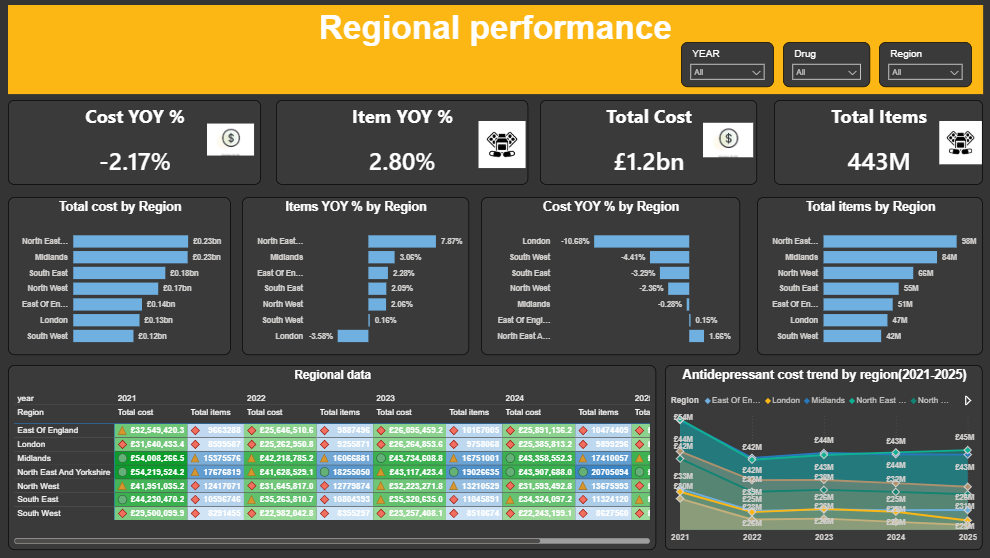

This screenshot's page, from the dashboard's own definition file:
{"tool":"powerbi","page":{"name":"Page 2","canvas":[1600,900],"ordinal":1},"visuals":[{"type":"barChart","fields":{"Y":["antidepressants_2021_2025_final1.Total  cost"],"Category":["antidepressants_2021_2025_final1.REGION_NAME"]},"box":[28.7,320.3,355.4,251.8],"z":0},{"type":"clusteredBarChart","fields":{"Y":["antidepressants_2021_2025_final1.Total  items"],"Category":["antidepressants_2021_2025_final1.REGION_NAME"]},"box":[1222.3,320.3,360.2,251.8],"z":1000},{"type":"pivotTable","title":"Regional data","fields":{"Rows":["antidepressants_2021_2025_final1.REGION_NAME"],"Columns":["Datetable.year"],"Values":["antidepressants_2021_2025_final1.Total  cost","antidepressants_2021_2025_final1.Total  items"]},"box":[28.7,588,1032.7,294.8],"z":2000},{"type":"lineChart","title":"Antidepressant cost trend by region(2021-2025)","fields":{"Category":["Datetable.year"],"Y":["antidepressants_2021_2025_final1.Total  cost"],"Series":["antidepressants_2021_2025_final1.REGION_NAME"]},"box":[1075.5,588.5,506.4,295],"z":3000},{"type":"clusteredBarChart","fields":{"Y":["antidepressants_2021_2025_final1.Items YOY %"],"Category":["antidepressants_2021_2025_final1.REGION_NAME"]},"box":[401.6,320.3,361.8,251.8],"z":4000},{"type":"clusteredBarChart","fields":{"Category":["antidepressants_2021_2025_final1.REGION_NAME"],"Y":["antidepressants_2021_2025_final1.Cost YOY %"]},"box":[782.5,320.3,412.7,251.8],"z":5000},{"type":"textbox","box":[28.7,14.3,1553.8,141.8],"z":6000},{"type":"cardVisual","title":"Cost YOY %","fields":{"Data":["antidepressants_2021_2025_final1.Cost YOY %"]},"box":[28.7,165.7,403.2,135.5],"z":7000},{"type":"cardVisual","title":"Item YOY %","fields":{"Data":["antidepressants_2021_2025_final1.Items YOY %"]},"box":[455.8,165.7,401.6,135.5],"z":8000},{"type":"cardVisual","title":"Total Cost","fields":{"Data":["antidepressants_2021_2025_final1.Total  cost"]},"box":[876.5,165.7,345.8,135.5],"z":9000},{"type":"cardVisual","title":"Total Items","fields":{"Data":["antidepressants_2021_2025_final1.Total  items"]},"box":[1249.4,165.7,333.1,135.5],"z":10000},{"type":"slicer","fields":{"Values":["antidepressants_2021_2025_final1.YEAR"]},"box":[1101.2,73.3,148.2,71.7],"z":11000},{"type":"slicer","fields":{"Values":["antidepressants_2021_2025_final1.Drug"]},"box":[1263.7,73.3,138.6,71.7],"z":12000},{"type":"slicer","fields":{"Values":["antidepressants_2021_2025_final1.Region"]},"box":[1416.7,73.3,148.2,71.7],"z":13000},{"type":"image","box":[345.8,183.3,74.9,90.8],"z":14000},{"type":"image","box":[774.5,199.2,82.9,74.9],"z":15000},{"type":"image","box":[1136.3,196,79.7,66.9],"z":16000},{"type":"image","box":[1510.8,199.2,71.7,68.5],"z":17000}]}

Visuals, with their boxes in screenshot pixels (x1, y1, x2, y2), scaled from the page's 1600x900 canvas onto the 990x558 screenshot:
barChart - antidepressants_2021_2025_final1.Total  cost x antidepressants_2021_2025_final1.REGION_NAME: l=18, t=199, r=238, b=355
clusteredBarChart - antidepressants_2021_2025_final1.Total  items x antidepressants_2021_2025_final1.REGION_NAME: l=756, t=199, r=979, b=355
"Regional data" pivotTable: l=18, t=365, r=657, b=547
"Antidepressant cost trend by region(2021-2025)" lineChart: l=665, t=365, r=979, b=548
clusteredBarChart - antidepressants_2021_2025_final1.Items YOY % x antidepressants_2021_2025_final1.REGION_NAME: l=248, t=199, r=472, b=355
clusteredBarChart - antidepressants_2021_2025_final1.REGION_NAME x antidepressants_2021_2025_final1.Cost YOY %: l=484, t=199, r=740, b=355
textbox: l=18, t=9, r=979, b=97
"Cost YOY %" cardVisual: l=18, t=103, r=267, b=187
"Item YOY %" cardVisual: l=282, t=103, r=531, b=187
"Total Cost" cardVisual: l=542, t=103, r=756, b=187
"Total Items" cardVisual: l=773, t=103, r=979, b=187
slicer - antidepressants_2021_2025_final1.YEAR: l=681, t=45, r=773, b=90
slicer - antidepressants_2021_2025_final1.Drug: l=782, t=45, r=868, b=90
slicer - antidepressants_2021_2025_final1.Region: l=877, t=45, r=968, b=90
image: l=214, t=114, r=260, b=170
image: l=479, t=124, r=531, b=170
image: l=703, t=122, r=752, b=163
image: l=935, t=124, r=979, b=166
